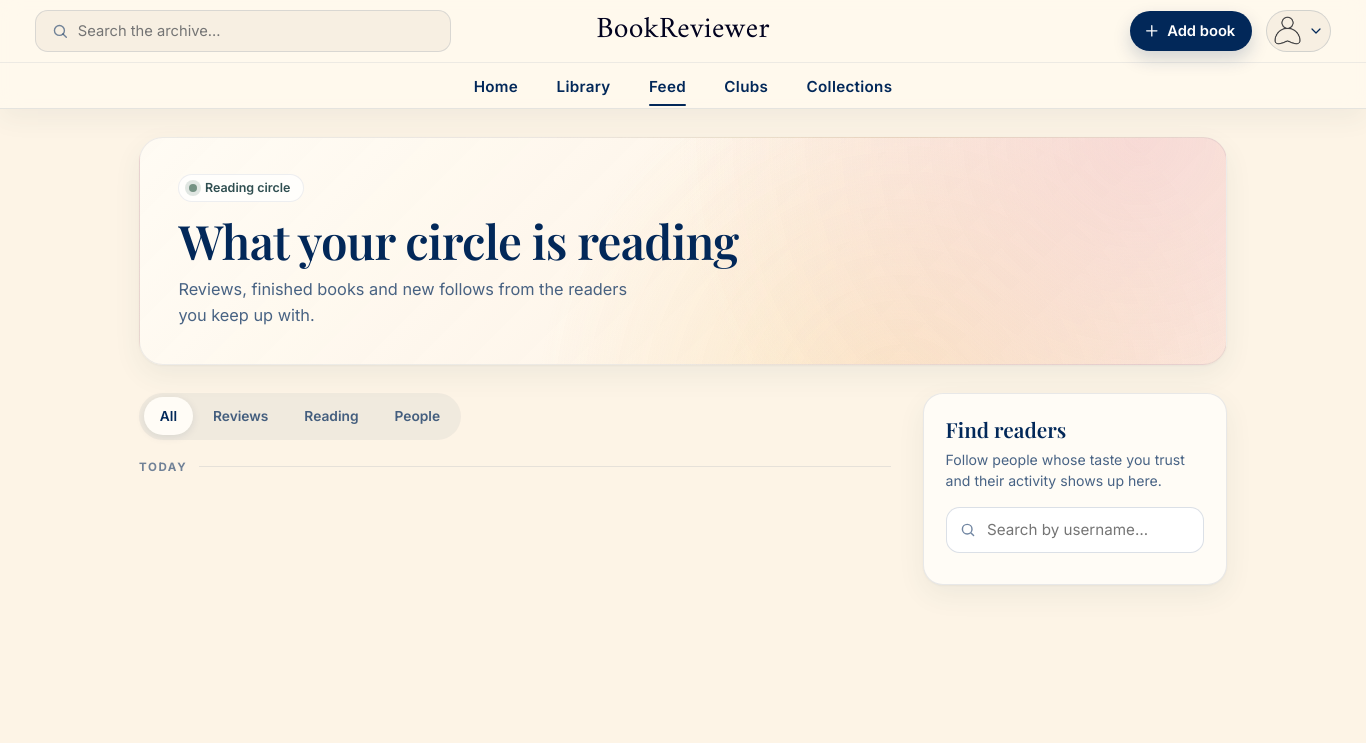
ActivityFeedPage › filters the loaded activity by kind
The width and height of the screenshot is (1366, 743).
Click the button "Reviews" at (241, 416), box [197,397,284,435]
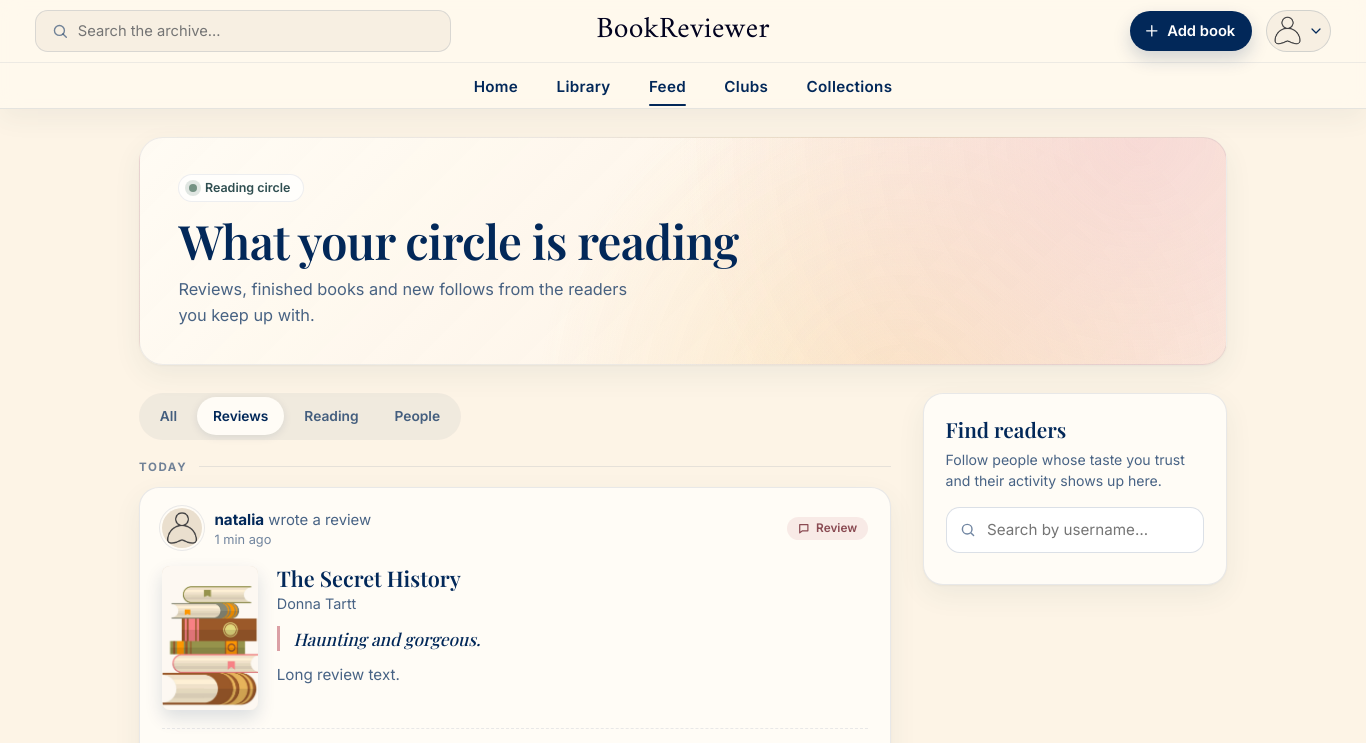
expect the heading "The Secret History" is shown: met, box [277,564,461,592]
